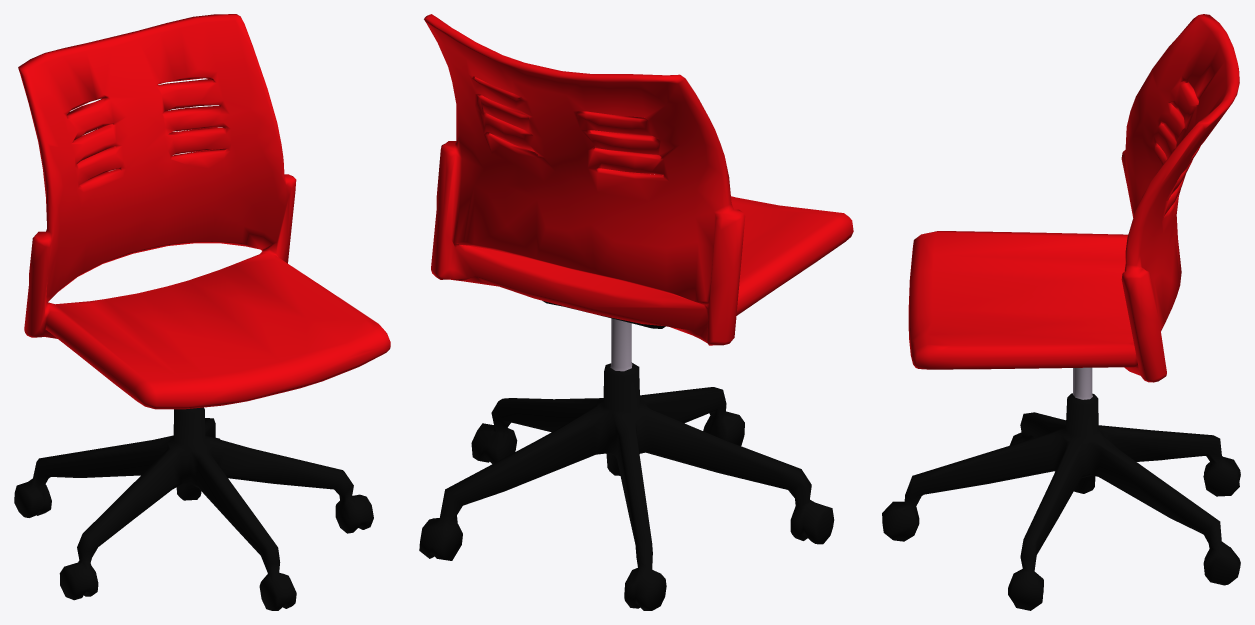
The model's file is silla_25.obj.
3 views of the same model, side by side, from view 1: azimuth 30°, elevation 25°; view 2: azimuth 150°, elevation 25°; view 3: azimuth 270°, elevation 25° (orthographic). The views are drawn at different scales.
Visible parts, largest first — view 1: model.001, model; view 2: model.001, model, model.004; view 3: model.001, model, model.004.
Boxes of the visible parts, x1,y1,x2,y2 form: model.001: [18, 14, 390, 409]; model: [14, 407, 373, 610]; model.001: [424, 14, 853, 345]; model: [419, 363, 834, 610]; model.004: [610, 318, 632, 371]; model.001: [908, 14, 1239, 382]; model: [882, 393, 1240, 610]; model.004: [1073, 367, 1092, 399].
Bounding box in the file's own units: 1.3 × 1.91 × 1.32.
